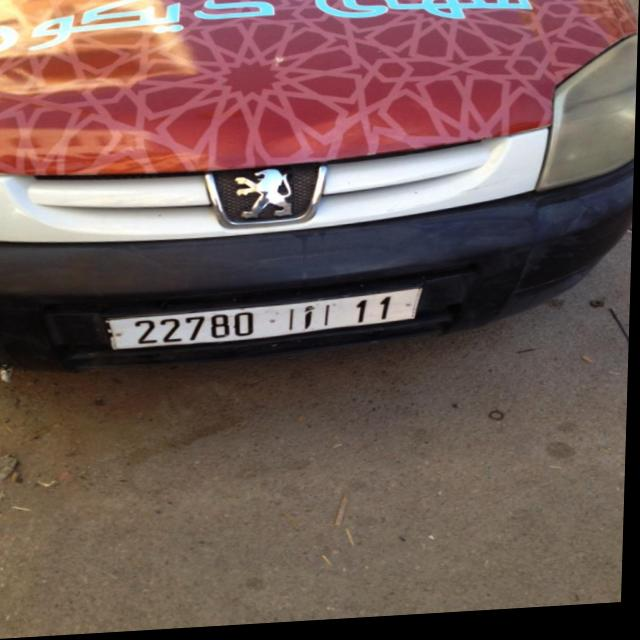License-Plate: (109, 293, 424, 352)
